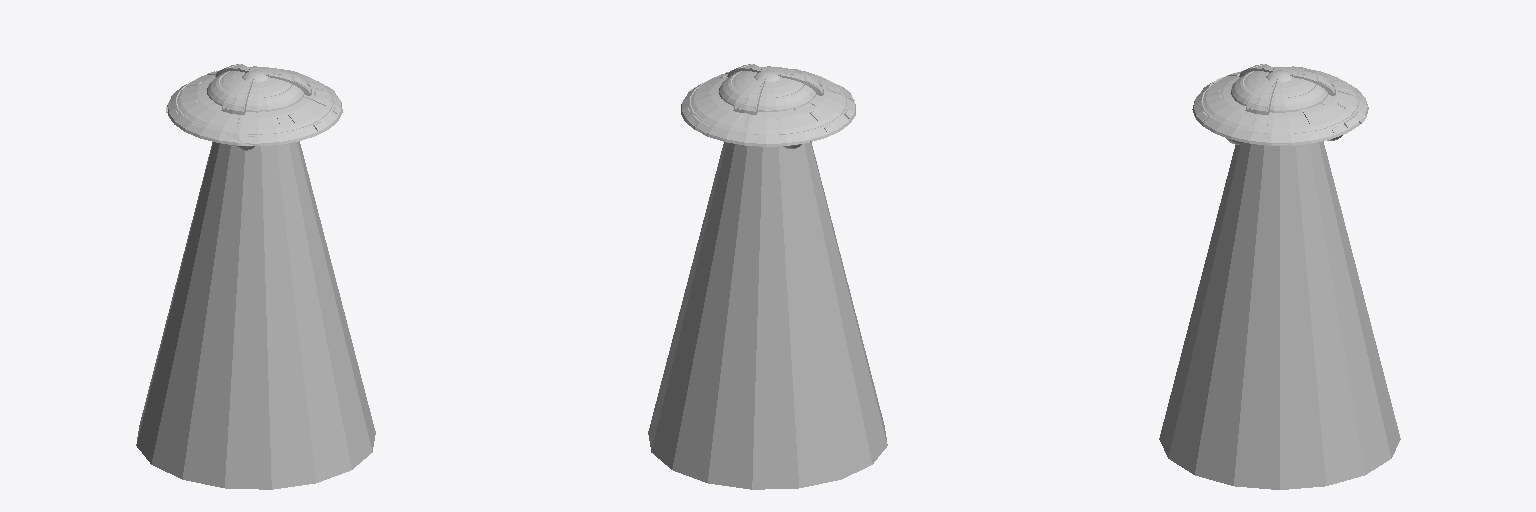
Rendered from disco+cone.obj.
The picture shows the model from 3 angles: view 1: azimuth 30°, elevation 25°; view 2: azimuth 150°, elevation 25°; view 3: azimuth 270°, elevation 25°; orthographic projection.
Parts seen in each view (by area): view 1: Cone, Disco; view 2: Cone, Disco; view 3: Cone, Disco.
Boxes of the visible parts, x1,y1,x2,y2 form: Cone: [136, 141, 375, 489]; Disco: [166, 64, 342, 150]; Cone: [648, 142, 887, 489]; Disco: [681, 64, 855, 148]; Cone: [1159, 141, 1400, 489]; Disco: [1192, 64, 1368, 145].
Bounding box in the file's own units: 2.36 × 3.95 × 2.36.